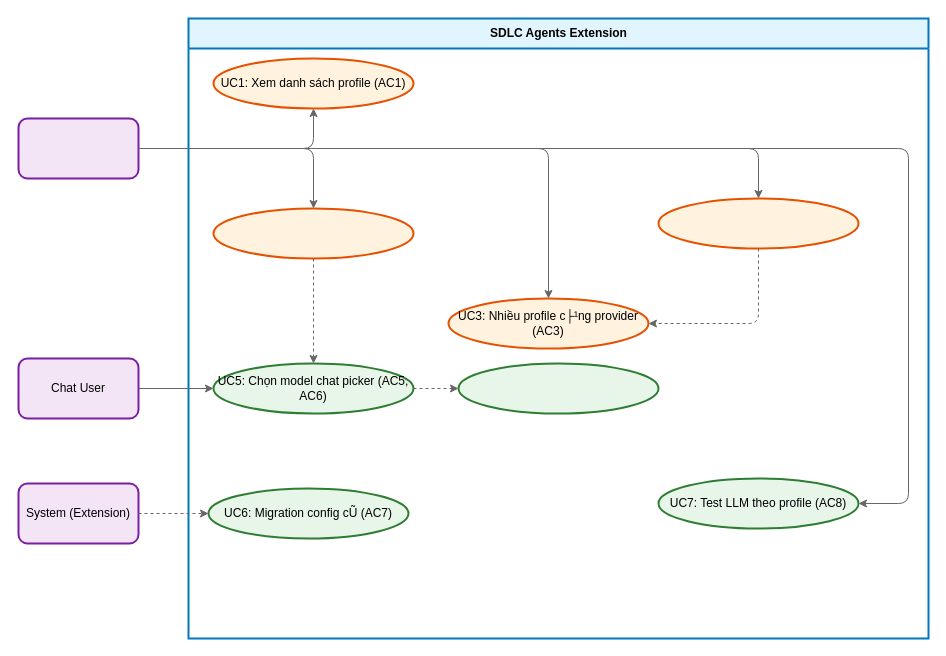
Some shapes in this 946 by 656 pixel diagram are drawn without their labels. Each missing label, with the box of its shape:
UC2: Thêm profile mới (AC2): (657, 197, 859, 249)
UC4: Đặt profile active (AC4): (212, 207, 414, 259)
UC8: Unified config resolution (AC9): (457, 362, 659, 414)
User (Settings): (17, 117, 139, 179)
